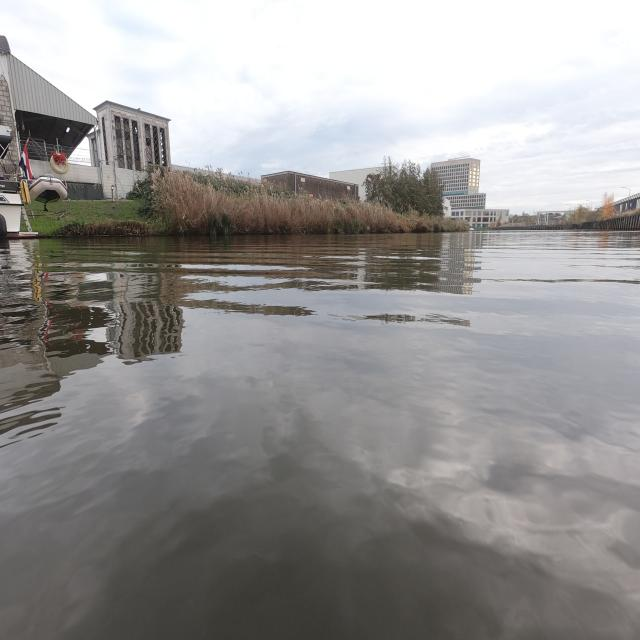grass: (27, 198, 151, 231)
reed: (153, 165, 470, 235)
sky: (9, 1, 638, 211)
wall: (565, 209, 639, 230)
water: (1, 225, 638, 639)
